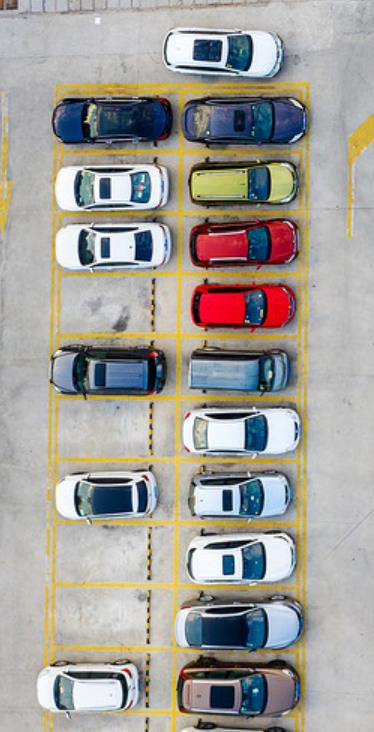car: (172, 657, 302, 720), (173, 596, 305, 654), (159, 23, 285, 82), (44, 341, 167, 401), (180, 94, 308, 149), (46, 93, 173, 148), (50, 218, 174, 273), (181, 404, 301, 460), (34, 659, 145, 719), (184, 531, 298, 587), (52, 162, 171, 213), (189, 216, 299, 271), (187, 279, 298, 333), (189, 343, 293, 396), (186, 469, 290, 522), (55, 468, 154, 523), (187, 159, 298, 208)
